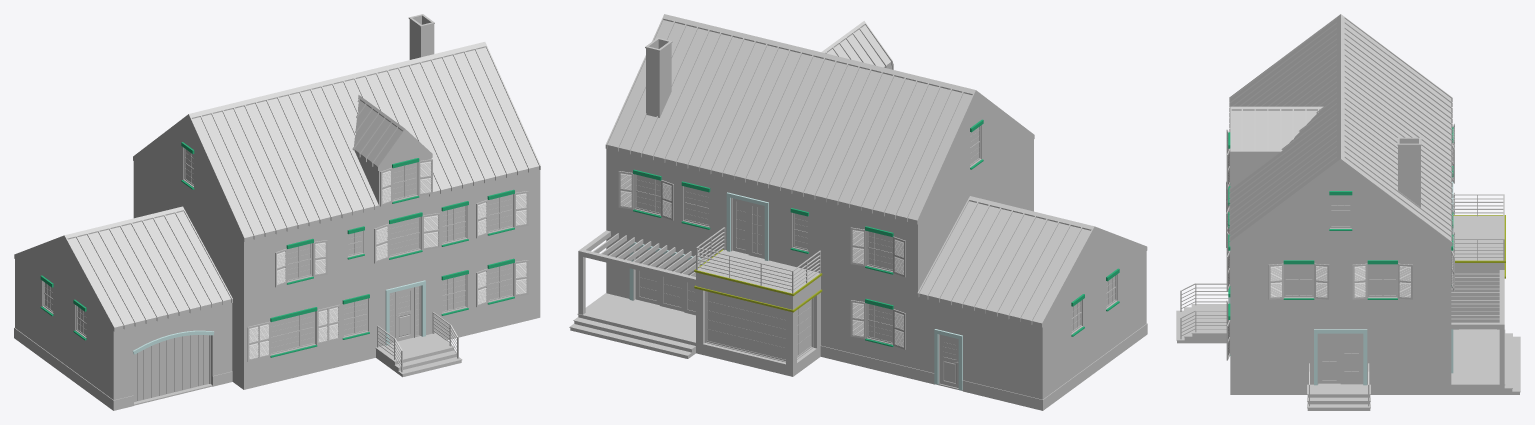
The model's file is house.glb.
3 views of the same model, side by side, from view 1: azimuth 30°, elevation 25°; view 2: azimuth 150°, elevation 25°; view 3: azimuth 270°, elevation 25° (orthographic). The views are drawn at different scales.
Visible parts, largest first — view 1: roof, muri, taparelle, vetri, fondamenta, portaGarage1, porte, scalePrimPiano, ringhiere; view 2: roof, muri, taparelle, vetri, fondamenta, porte, scalePrimPiano, ripparo, ringhiere; view 3: muri, roof, scalePrimPiano, taparelle, ripparo, fondamenta, porte, ringhiere, vetri.
Part boxes in pixels (x1=…): roof: x1=14, y1=42, x2=540, y2=331; muri: x1=15, y1=14, x2=540, y2=399; taparelle: x1=40, y1=142, x2=528, y2=361; vetri: x1=44, y1=149, x2=511, y2=352; fondamenta: x1=14, y1=307, x2=540, y2=410; portaGarage1: x1=133, y1=335, x2=210, y2=401; porte: x1=132, y1=280, x2=425, y2=354; scalePrimPiano: x1=375, y1=333, x2=462, y2=377; ringhiere: x1=377, y1=312, x2=458, y2=372; roof: x1=605, y1=14, x2=1147, y2=327; muri: x1=606, y1=37, x2=1146, y2=399; taparelle: x1=618, y1=63, x2=1119, y2=362; vetri: x1=636, y1=127, x2=1115, y2=359; fondamenta: x1=696, y1=250, x2=1147, y2=410; porte: x1=629, y1=192, x2=962, y2=390; scalePrimPiano: x1=569, y1=293, x2=695, y2=358; ripparo: x1=578, y1=230, x2=707, y2=314; ringhiere: x1=696, y1=227, x2=820, y2=293; muri: x1=1230, y1=137, x2=1505, y2=384; roof: x1=1229, y1=14, x2=1452, y2=246; scalePrimPiano: x1=1176, y1=304, x2=1520, y2=410; taparelle: x1=1226, y1=123, x2=1454, y2=360; ripparo: x1=1451, y1=270, x2=1504, y2=384; fondamenta: x1=1230, y1=219, x2=1496, y2=394; porte: x1=1228, y1=181, x2=1453, y2=385; ringhiere: x1=1180, y1=194, x2=1504, y2=406; vetri: x1=1285, y1=195, x2=1395, y2=295.
Size of the model in its own units: 820 by 416 by 542.
